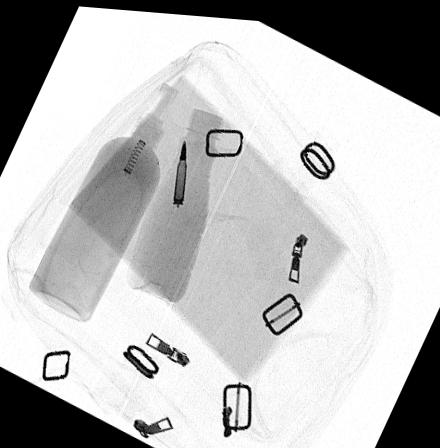Bullet: (171, 135, 186, 202)
